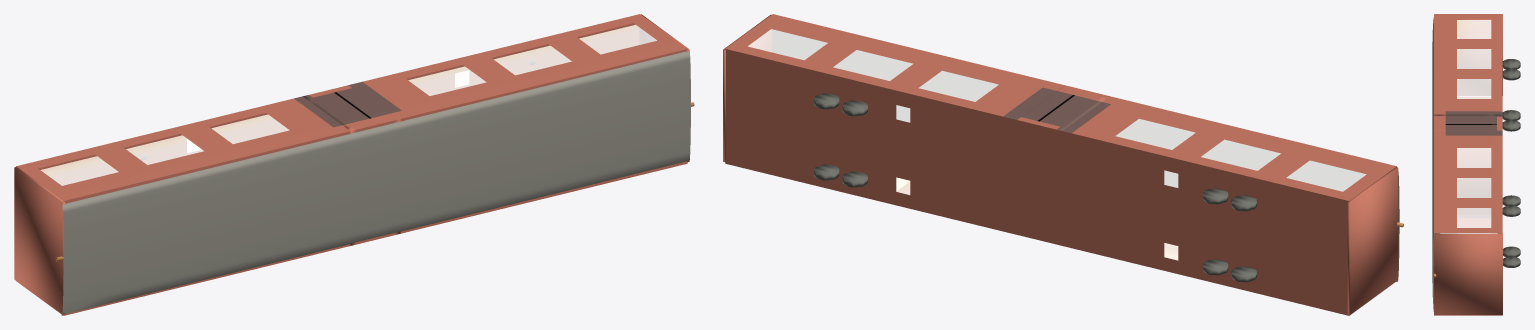
Rendered from asset19.glb.
3 renders of one model, left to right at view 1: azimuth 30°, elevation 25°; view 2: azimuth 150°, elevation 25°; view 3: azimuth 270°, elevation 25°, orthographic. The views are drawn at different scales.
Parts seen in each view (by area): view 1: Cylinder2, Cube1_copy12, Cube1_copy23, Cube16, Cube19_copy18, Cube1_copy27; view 2: Cube1_copy23, Cube1_copy12, Cube16, Cylinder2, Cube1_copy27, Cube19_copy18, Cube19_copy25; view 3: Cube19_copy25, Cube1_copy23, Cube1_copy12, Cube16, Cube1_copy27, Cube19_copy18, Cylinder2, Cylinder4_copy8, Cylinder4_copy20, Cylinder4_copy9, Cylinder4, Cylinder4_copy22 (+3 smaller).
Boxes of the visible parts, x1,y1,x2,y2 form: Cylinder2: (60,51,690,315); Cube1_copy12: (16,95,350,315); Cube1_copy23: (348,14,687,233); Cube16: (40,24,656,185); Cube19_copy18: (14,167,65,314); Cube1_copy27: (303,85,400,245); Cube1_copy23: (725,14,1064,234); Cube1_copy12: (1057,96,1396,315); Cube16: (748,29,1366,260); Cylinder2: (772,30,1399,281); Cube1_copy27: (1017,85,1109,244); Cube19_copy18: (1347,167,1398,314); Cube19_copy25: (723,14,771,162); Cube19_copy25: (1434,233,1502,315); Cube1_copy23: (1434,130,1502,315); Cube1_copy12: (1434,14,1502,116); Cube16: (1440,20,1497,233); Cube1_copy27: (1434,114,1502,214); Cube19_copy18: (1457,14,1502,95); Cylinder2: (1432,17,1436,315); Cylinder4_copy8: (1502,120,1520,131); Cylinder4_copy20: (1502,205,1520,216); Cylinder4_copy9: (1502,69,1520,80); Cylinder4: (1502,110,1520,120); Cylinder4_copy22: (1502,195,1520,205).
Size of the model in its own units: 1 by 0.1727 by 0.1667.
